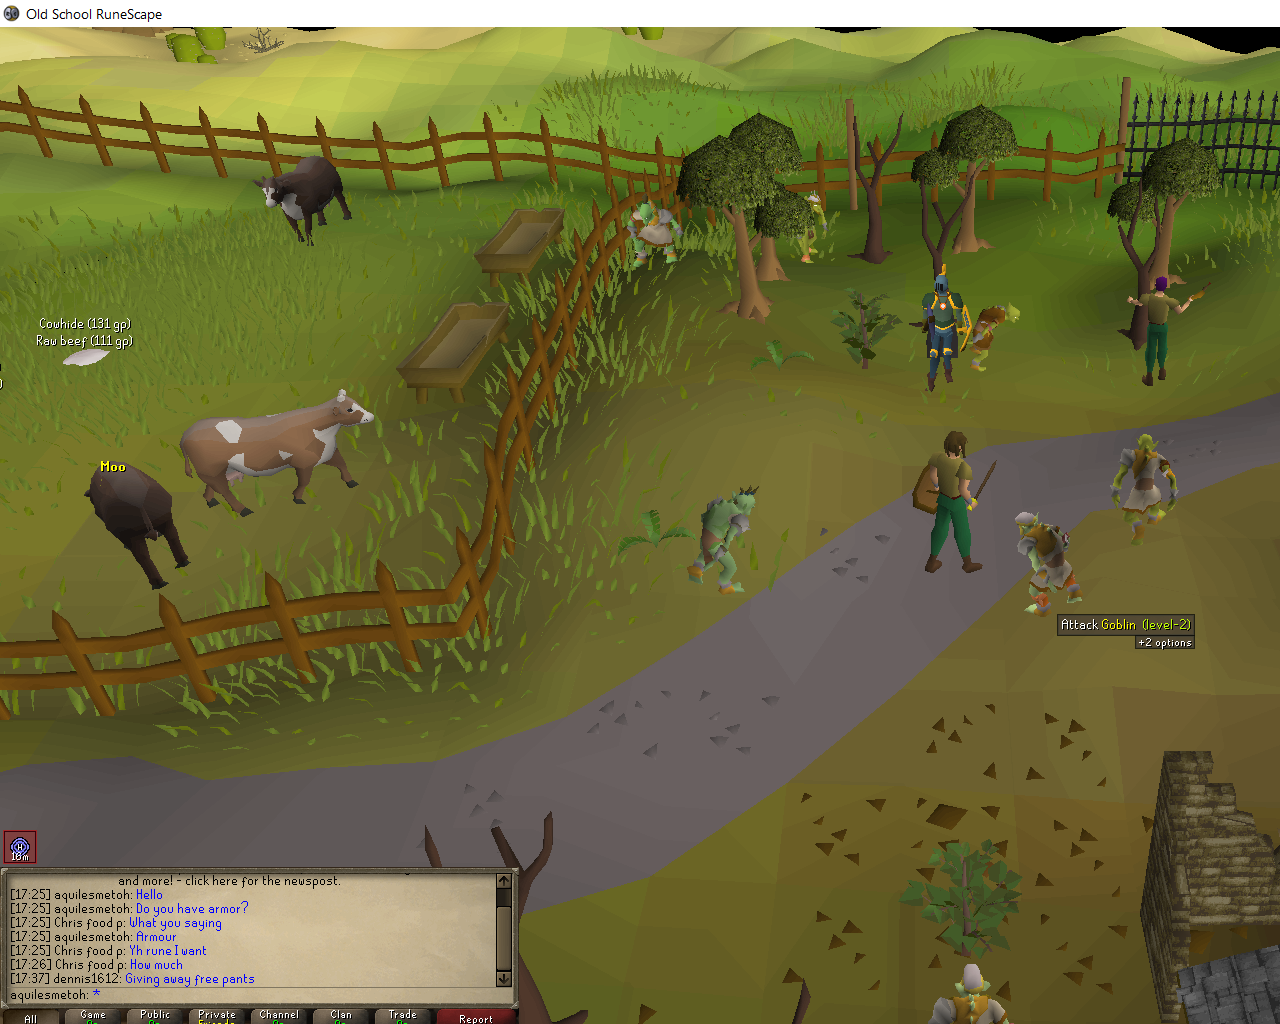Goblin: (1108, 427, 1180, 549), (1006, 511, 1087, 616), (685, 483, 759, 596), (622, 201, 683, 269), (964, 300, 1021, 374), (785, 191, 831, 264)
